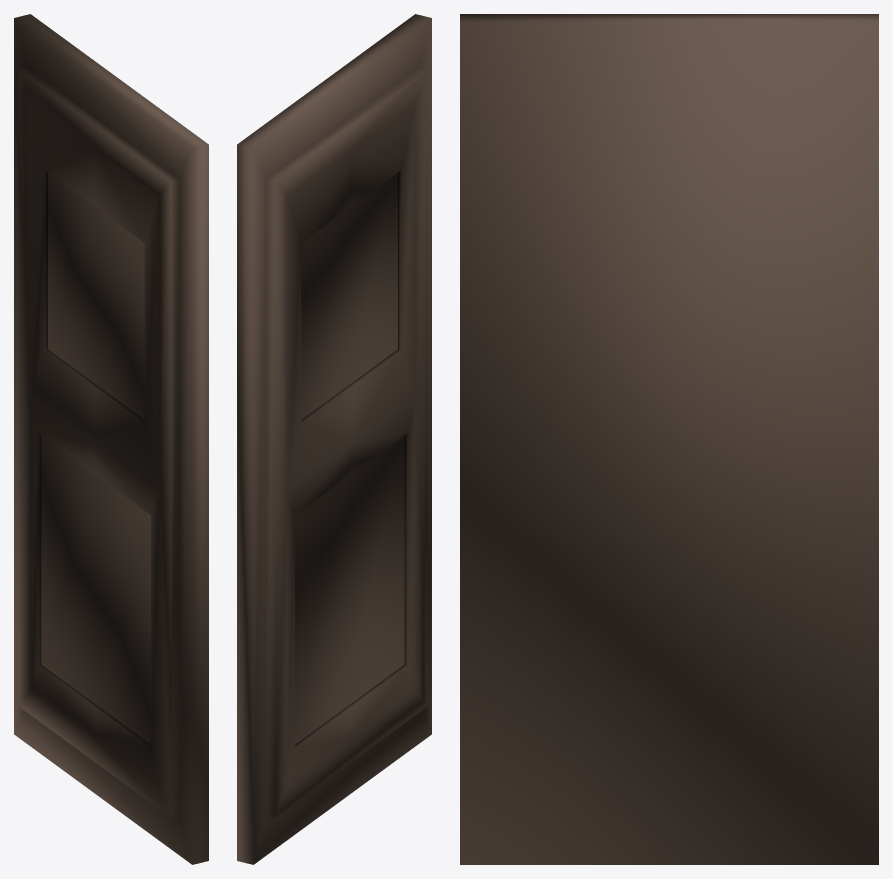
File: door.fbx
3 views of the same model, side by side, from view 1: azimuth 30°, elevation 25°; view 2: azimuth 150°, elevation 25°; view 3: azimuth 270°, elevation 25° (orthographic). The views are drawn at different scales.
Parts seen in each view (by area): view 1: Cube.016; view 2: Cube.016; view 3: Cube.016.
Part boxes in pixels (left/top/right/bottom): Cube.016: left=14, top=14, right=208, bottom=864; Cube.016: left=237, top=14, right=431, bottom=864; Cube.016: left=460, top=14, right=878, bottom=864.
Size of the model in its own units: 26.34 by 2.15 by 58.41.
